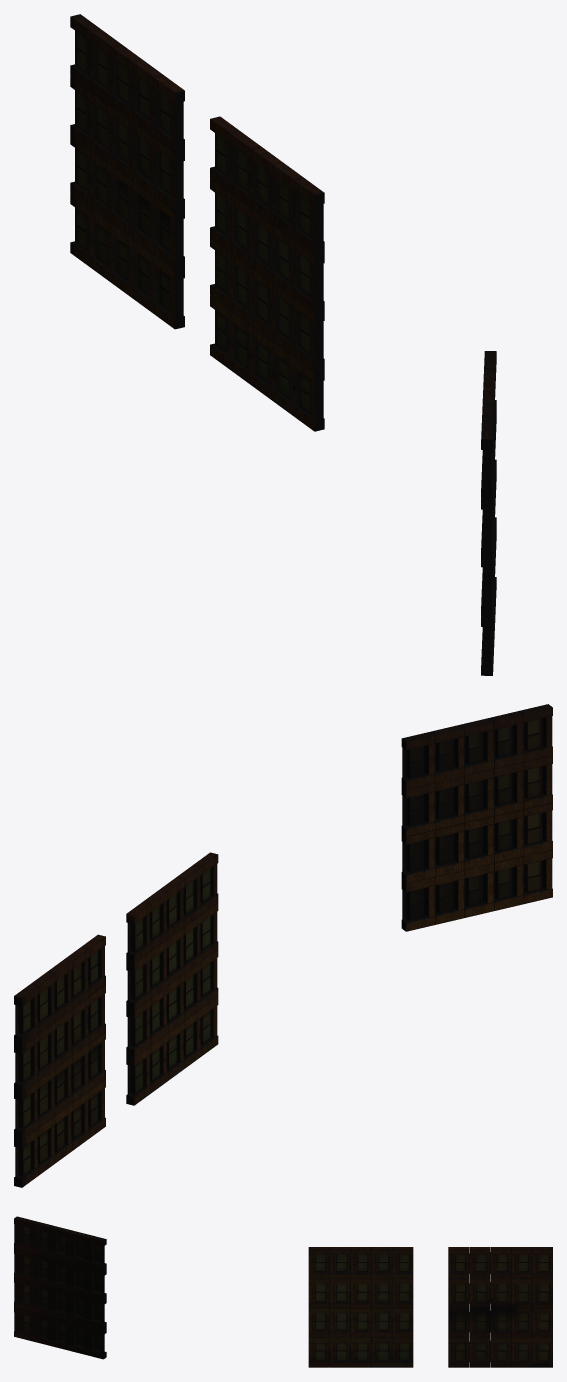
3 renders of one model, top to bottom at view 1: azimuth 30°, elevation 25°; view 2: azimuth 150°, elevation 25°; view 3: azimuth 270°, elevation 25°, orthographic. The views are drawn at different scales.
Visible parts, largest first — view 1: w1; view 2: w1; view 3: w1.
Part boxes in pixels (x1,y1,x2,y2): w1: (70,14,496,675); w1: (14,704,552,1187); w1: (14,1216,552,1367).
Bounding box in the file's own units: 7.02 × 11.73 × 48.44.
1 material, 1 textured.
